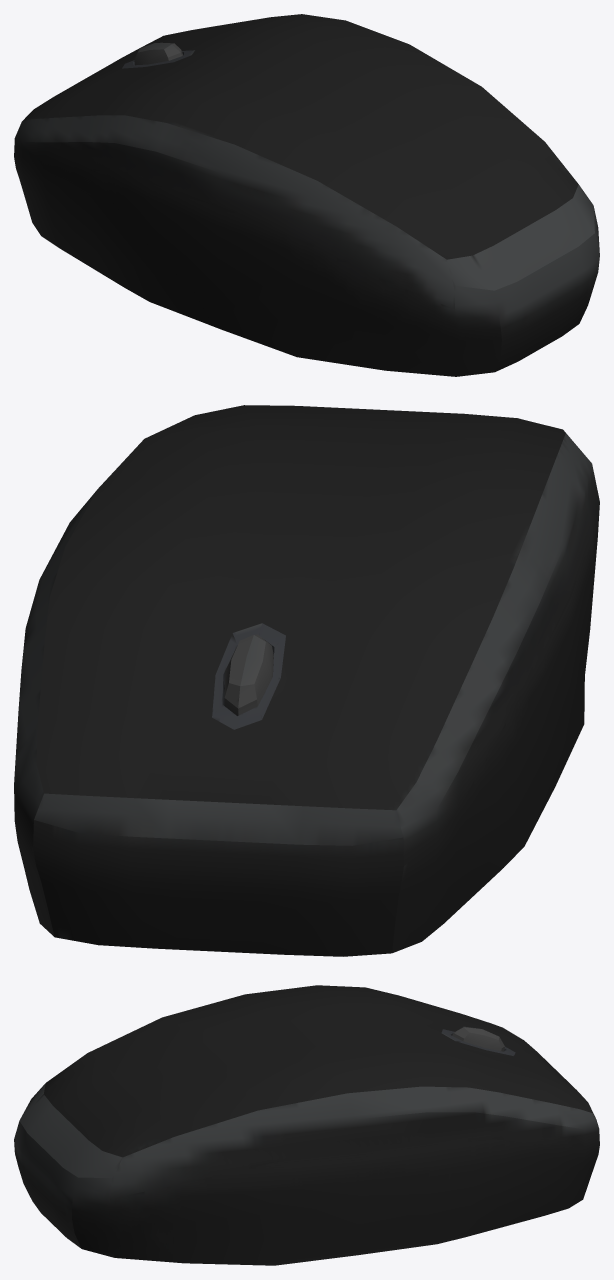
Rendered from ScrivaniaEnzoMouse.gltf.
The picture shows the model from 3 angles, top to bottom: view 1: azimuth 30°, elevation 25°; view 2: azimuth 150°, elevation 25°; view 3: azimuth 270°, elevation 25°; orthographic projection. The views are drawn at different scales.
Parts seen in each view (by area): view 1: Bianco Mouse; view 2: Bianco Mouse; view 3: Bianco Mouse.
Boxes of the visible parts, x1,y1,x2,y2 form: Bianco Mouse: (14, 14, 599, 376); Bianco Mouse: (14, 405, 599, 956); Bianco Mouse: (14, 985, 599, 1265).
Size of the model in its own units: 0.0579 by 0.0298 by 0.0939.
1 material, 1 textured.
